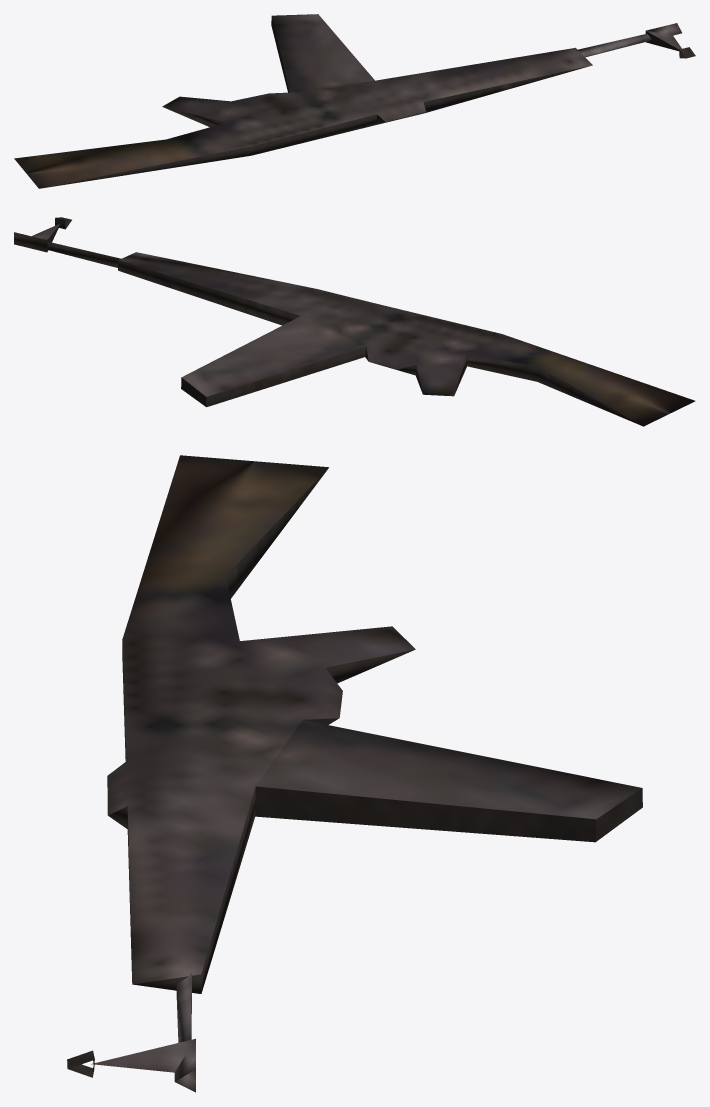
Rendered from weapon_ger_mp44_lmg_LOD21.obj.
3 views of the same model, one above another, from view 1: azimuth 30°, elevation 25°; view 2: azimuth 150°, elevation 25°; view 3: azimuth 270°, elevation 25° (orthographic). The views are drawn at different scales.
Visible parts, largest first — view 1: TomGroup_0; view 2: TomGroup_0; view 3: TomGroup_0.
Part boxes in pixels (<box>): TomGroup_0: <box>14,14,695,188</box>; TomGroup_0: <box>14,217,695,426</box>; TomGroup_0: <box>67,455,642,1092</box>.
Bounding box in the file's own units: 93.93 × 2.13 × 36.47.
1 material, 1 textured.
